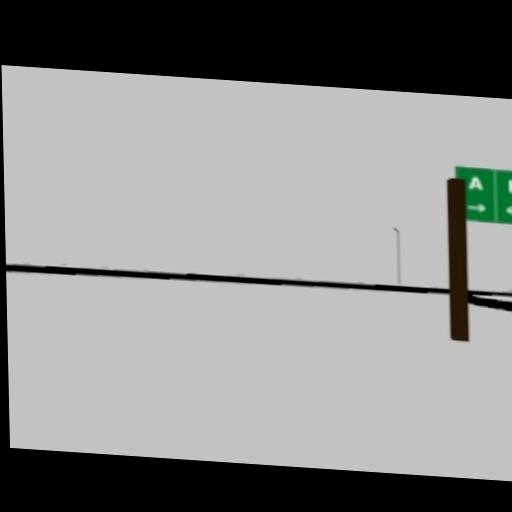A: (468, 173, 482, 188)
B: (506, 178, 512, 192)
Left: (504, 204, 512, 214)
Right: (467, 201, 486, 212)
